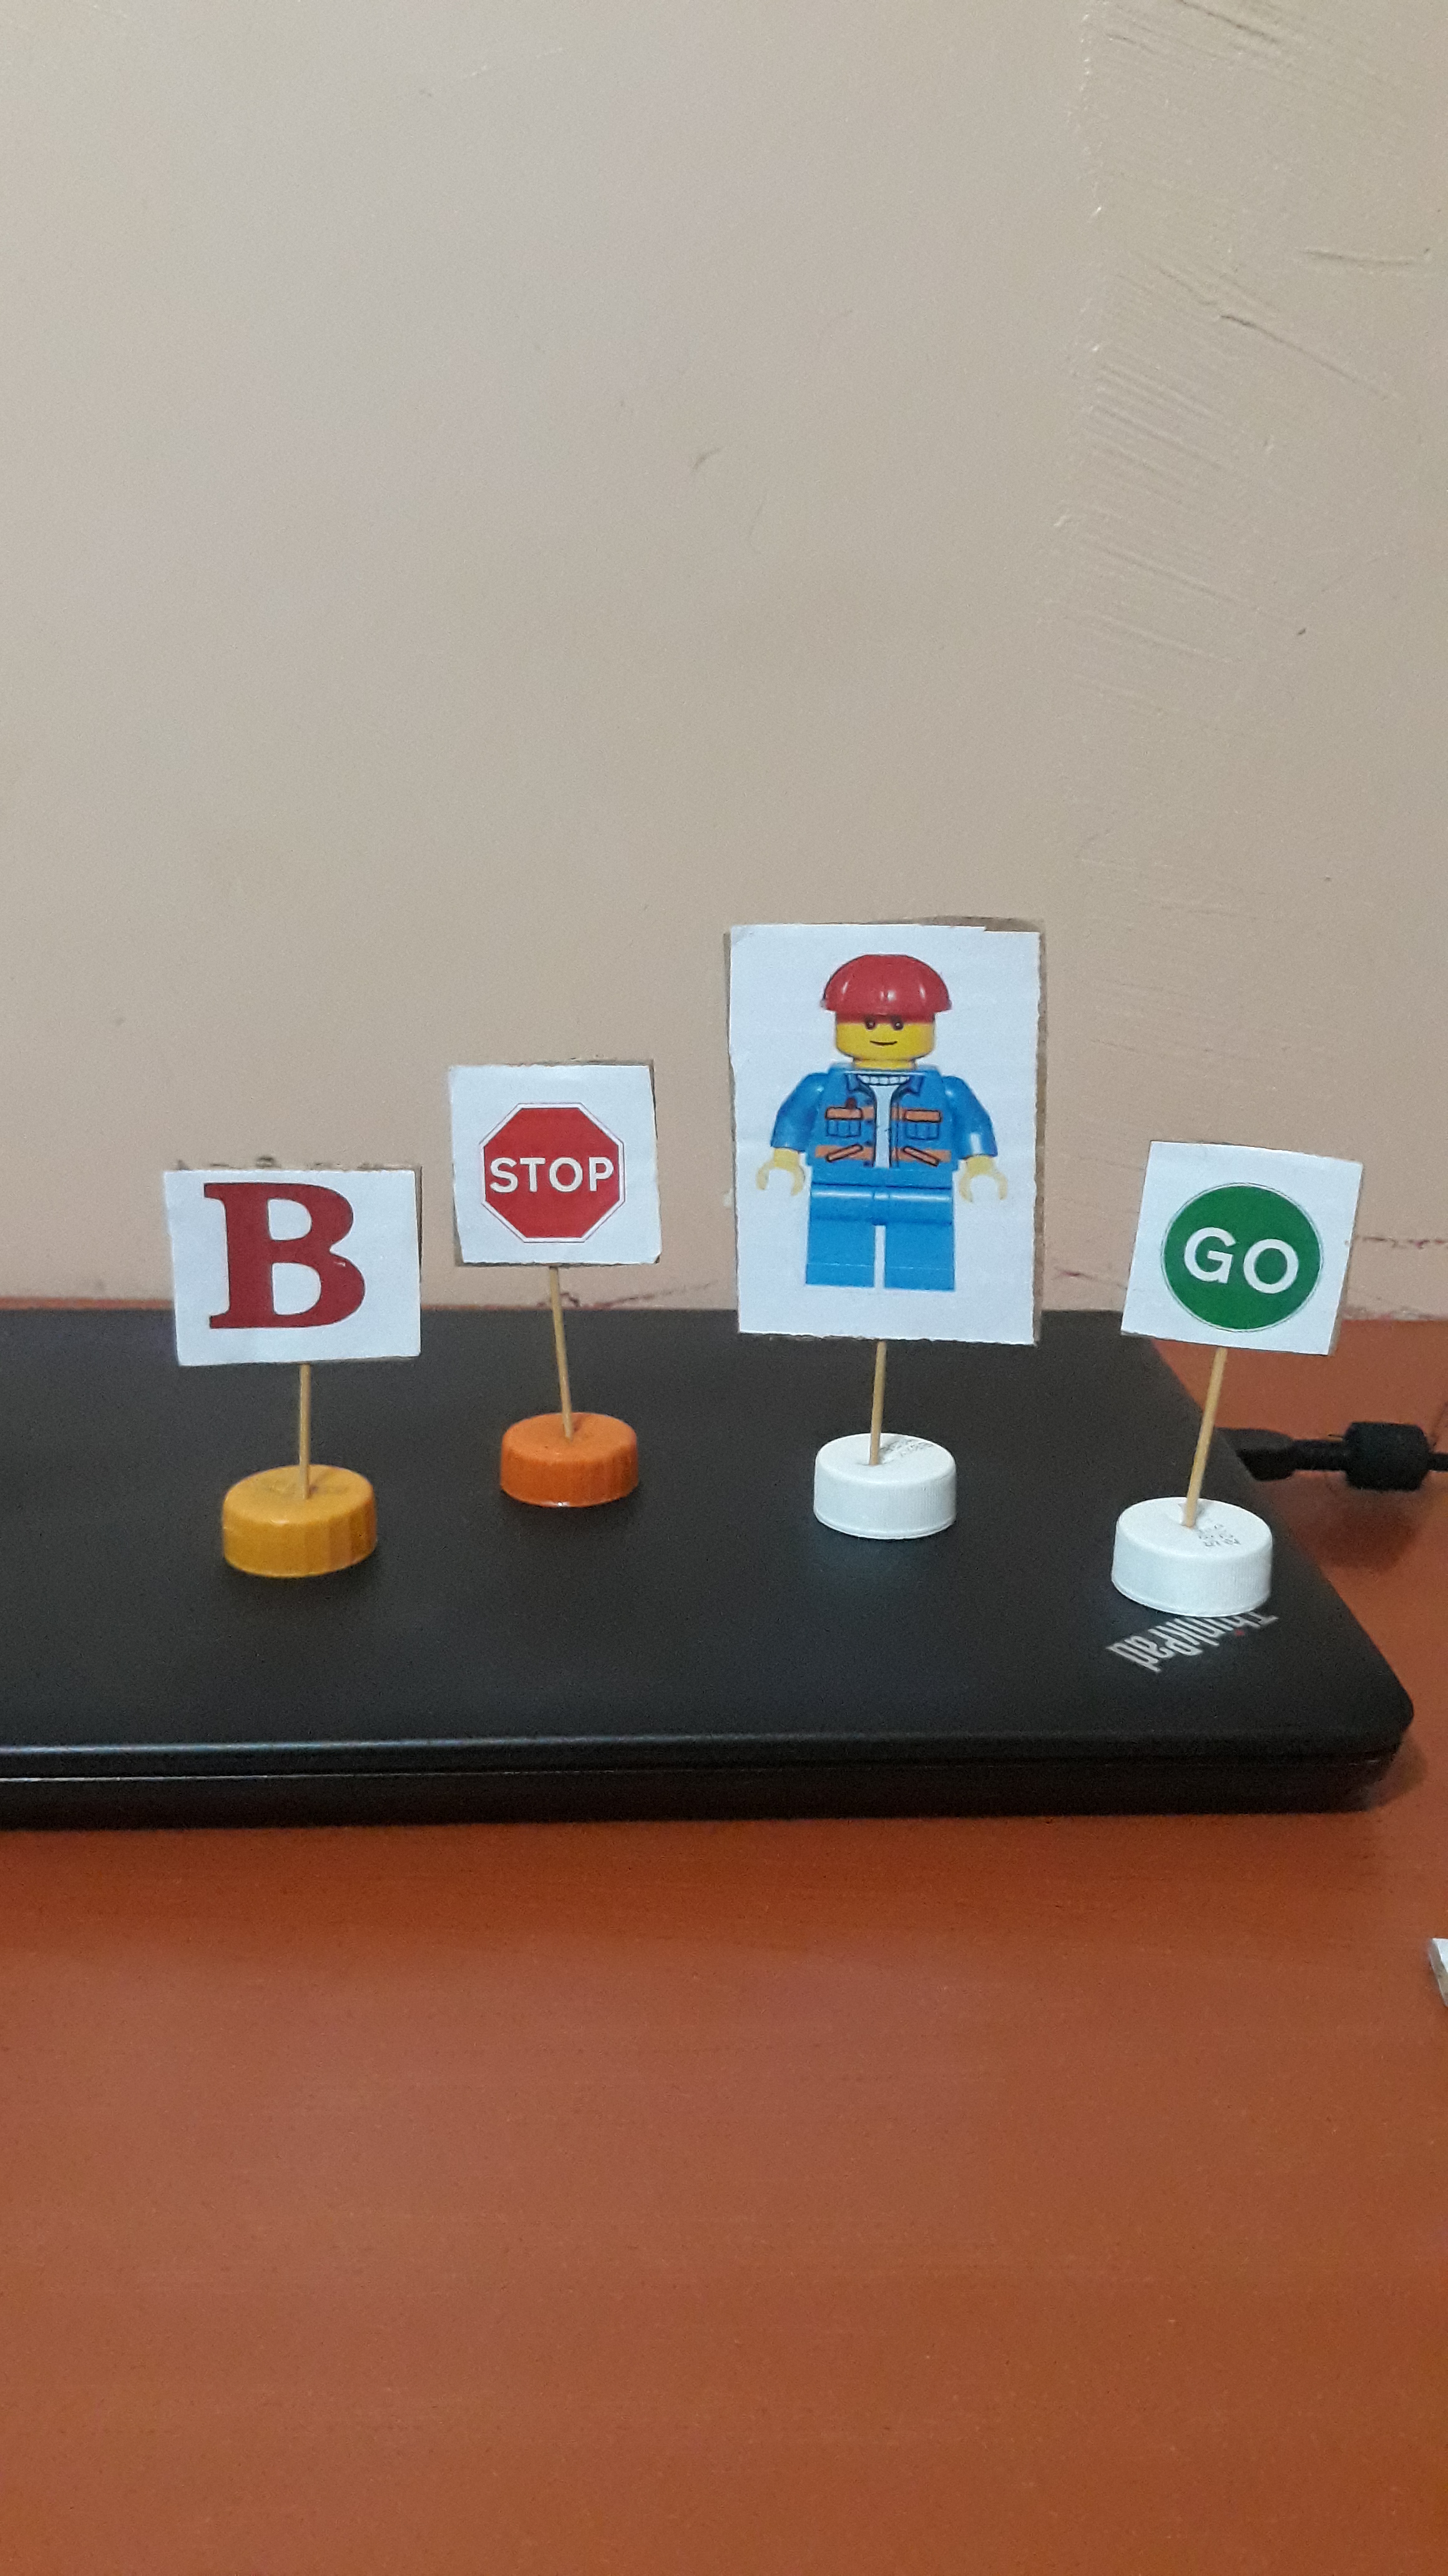go: (1149, 1148, 1333, 1342)
pedestrian: (736, 929, 1020, 1339)
stop: (471, 1105, 642, 1264)
zone B: (186, 1175, 396, 1354)
